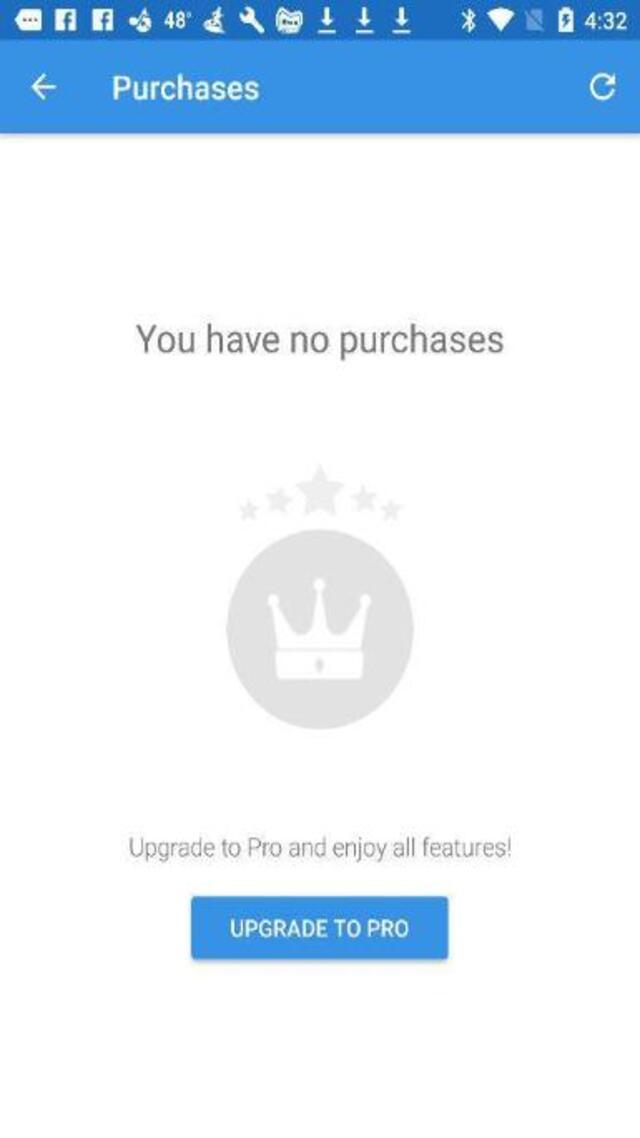Icon: (588, 73, 616, 101), (29, 73, 56, 101)
Image: (225, 529, 413, 730), (236, 461, 402, 521)
Text: (135, 322, 502, 361), (130, 834, 512, 862), (227, 913, 416, 943), (114, 73, 258, 101)
TextButton: (190, 894, 448, 959)
